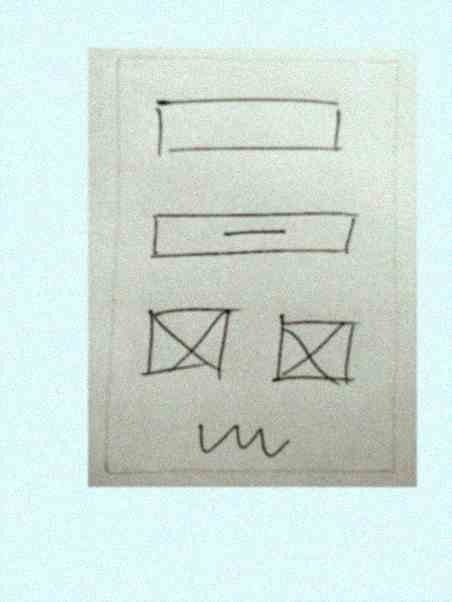button: (146, 206, 362, 264)
image: (140, 305, 243, 385), (269, 308, 361, 393)
text: (191, 412, 295, 465)
text_input: (150, 92, 351, 162)
